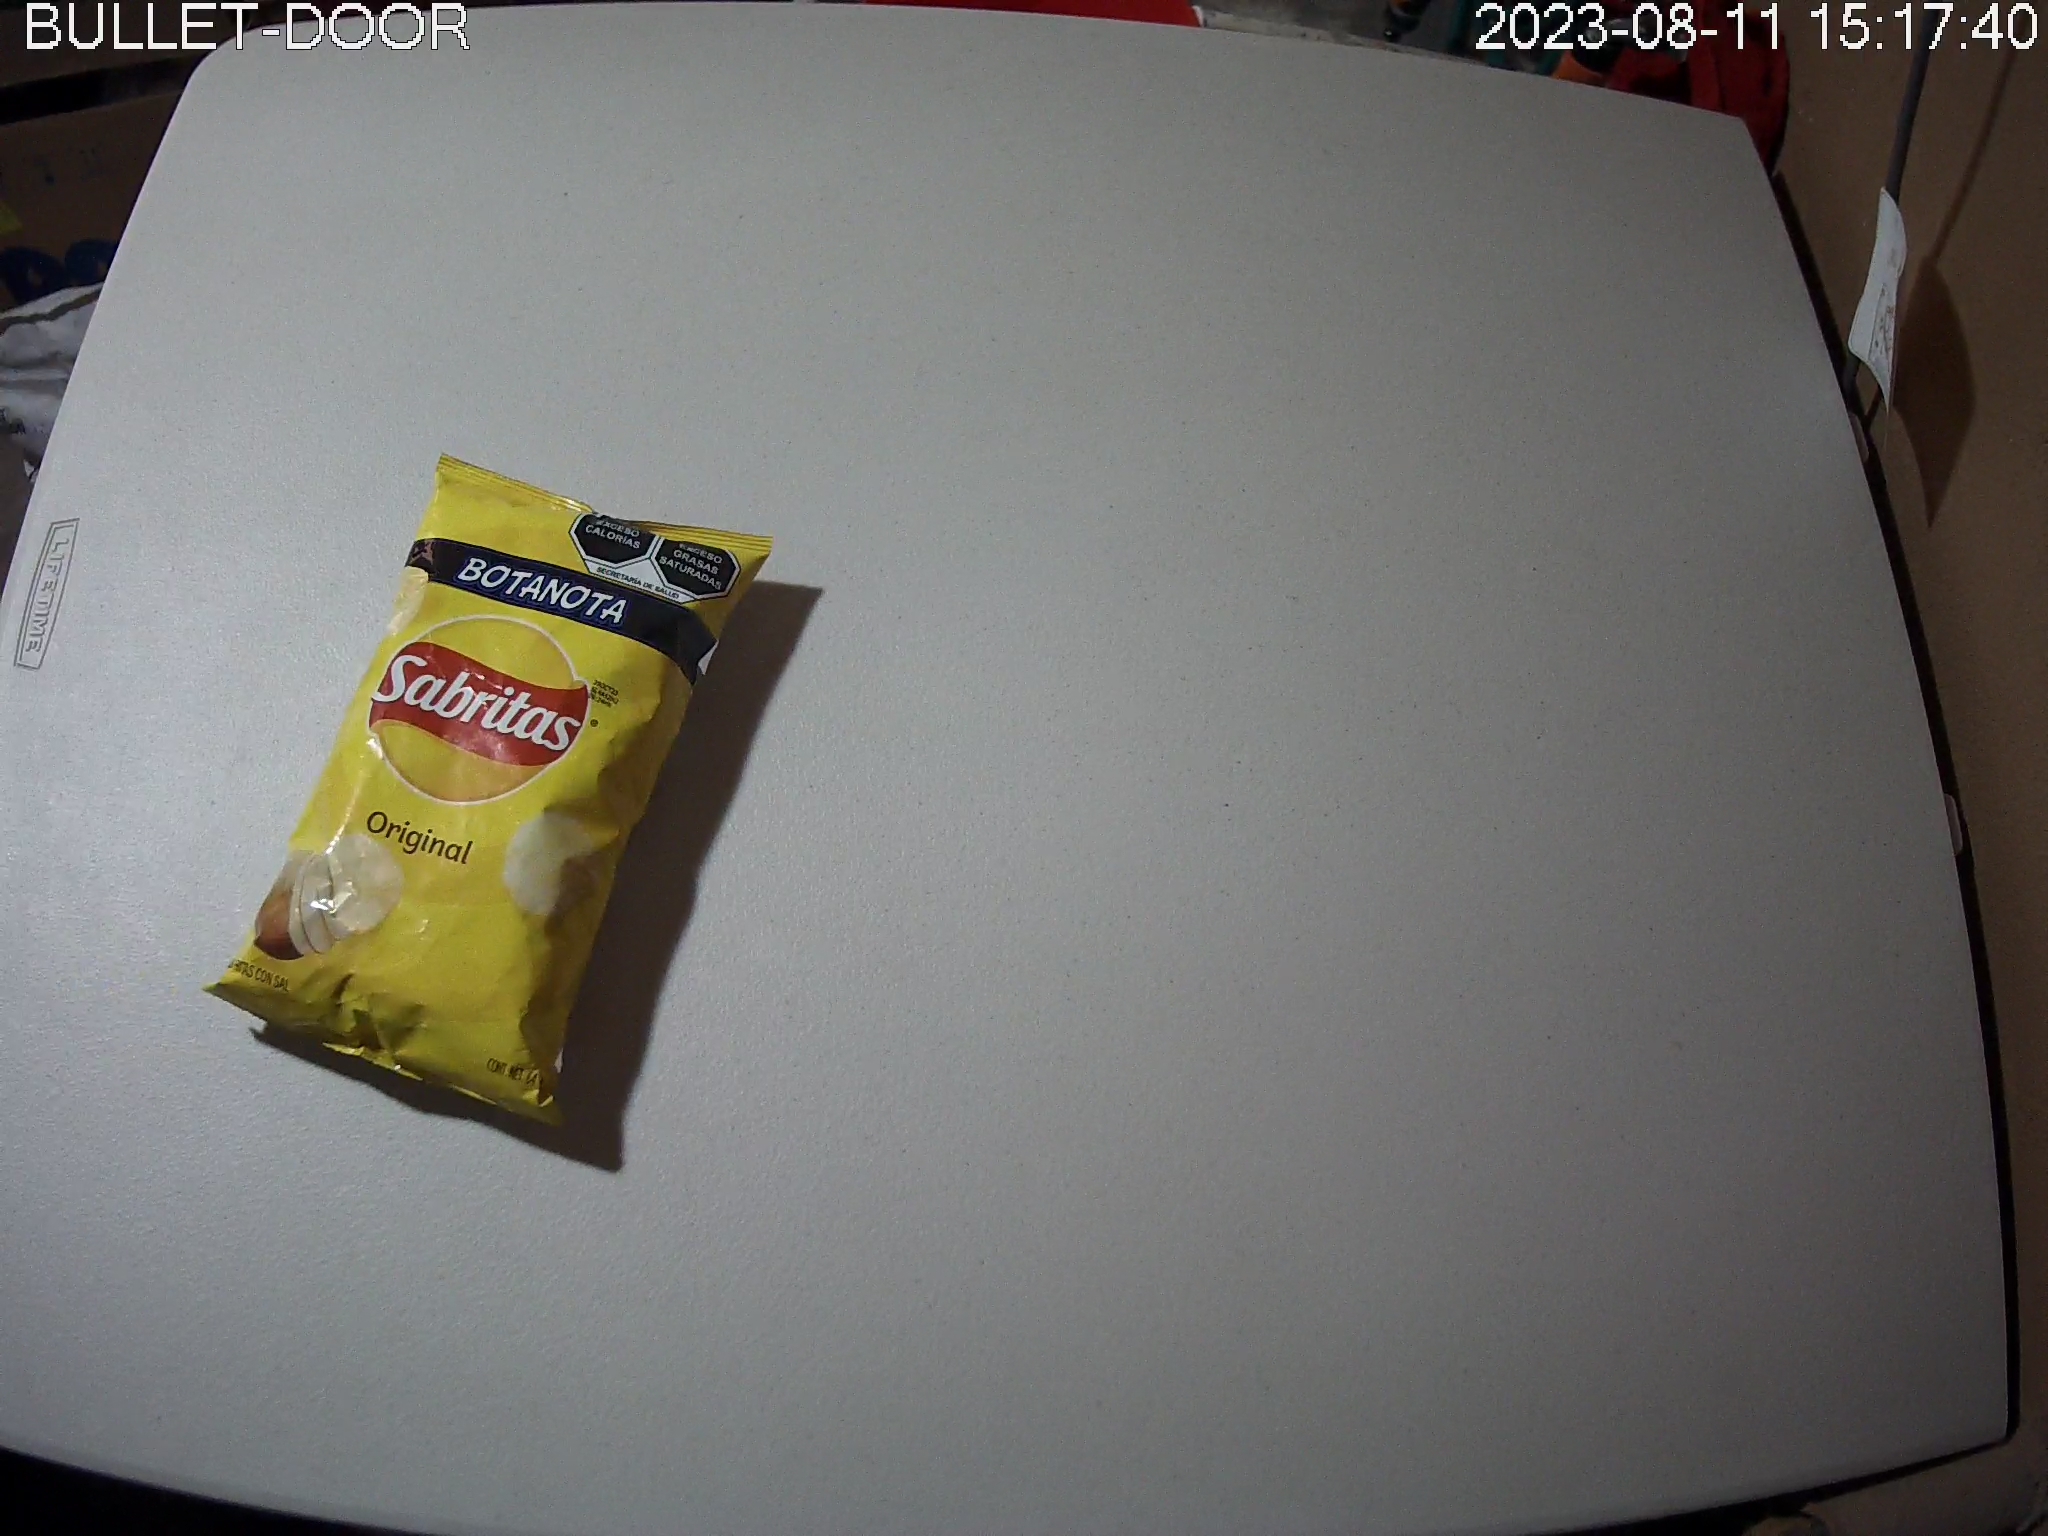Sabritas_64_F: (202, 452, 777, 1128)
